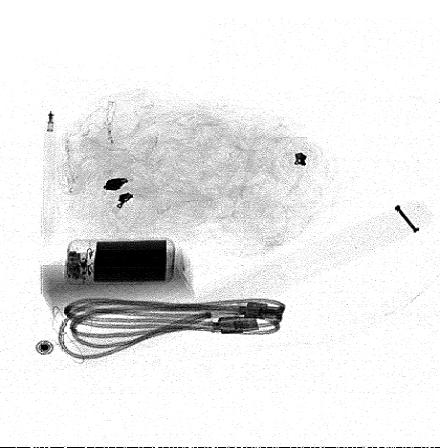Powerbank: (64, 236, 176, 286)
